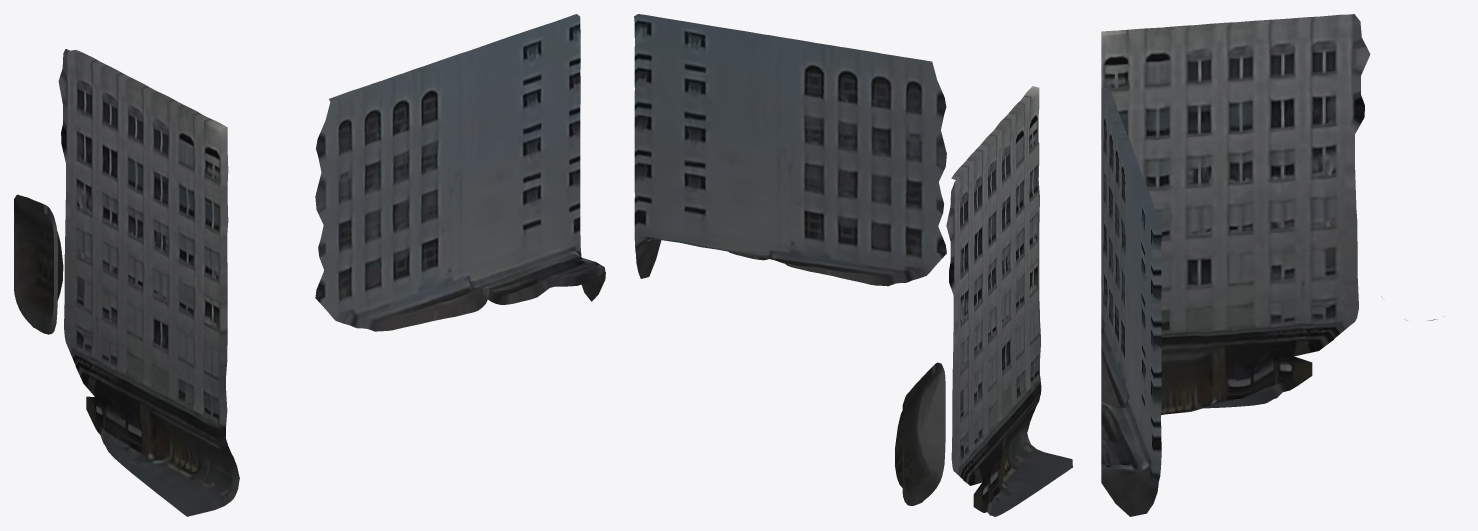
Rendered from z20-167749-405242-h0-yup-uvflip-v3-world.glb.
3 renders of one model, left to right at view 1: azimuth 30°, elevation 25°; view 2: azimuth 150°, elevation 25°; view 3: azimuth 270°, elevation 25°, orthographic. The views are drawn at different scales.
Size of the model in its own units: 30.24 by 26.16 by 21.64.
Materials: 1 (1 with a texture image).
